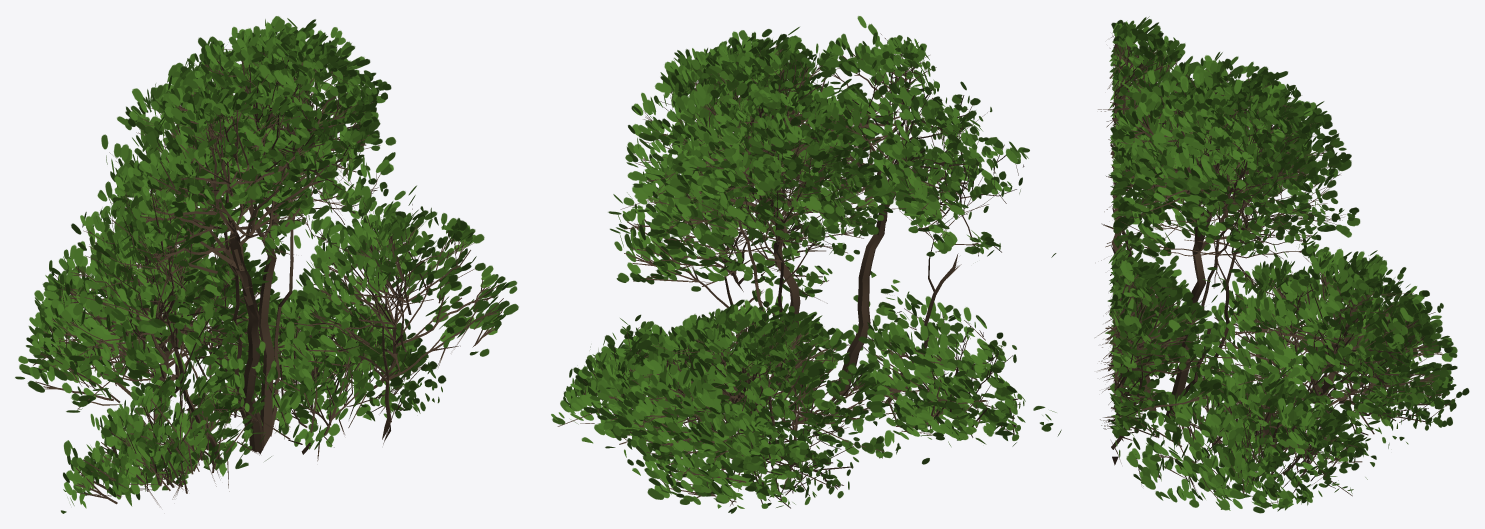
3 views of the same model, side by side, from view 1: azimuth 30°, elevation 25°; view 2: azimuth 150°, elevation 25°; view 3: azimuth 270°, elevation 25° (orthographic). The views are drawn at different scales.
Parts seen in each view (by area): view 1: oak 01.001_trunk_Mat.001_0.309; view 2: oak 01.001_trunk_Mat.001_0.309; view 3: oak 01.001_trunk_Mat.001_0.309.
Boxes of the visible parts, left/top/right/bottom form: oak 01.001_trunk_Mat.001_0.309: left=15, top=16, right=518, bottom=513; oak 01.001_trunk_Mat.001_0.309: left=551, top=16, right=1061, bottom=513; oak 01.001_trunk_Mat.001_0.309: left=1095, top=16, right=1469, bottom=513.
Bounding box in the file's own units: 4.54 × 3.92 × 3.38.
2 materials, 1 textured.
